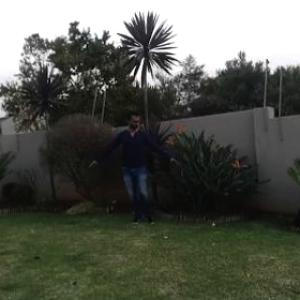land: (86, 104, 188, 235)
